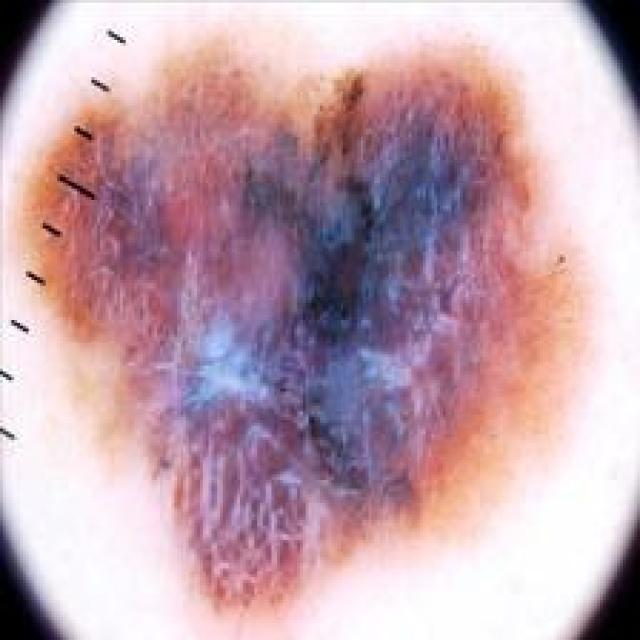Cancer: (56, 43, 581, 620)
